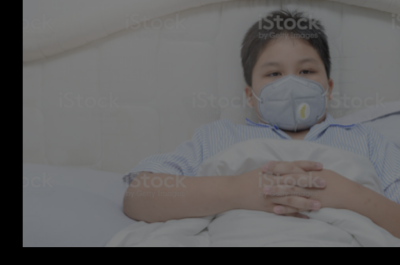with_mask: (252, 52, 328, 133)
